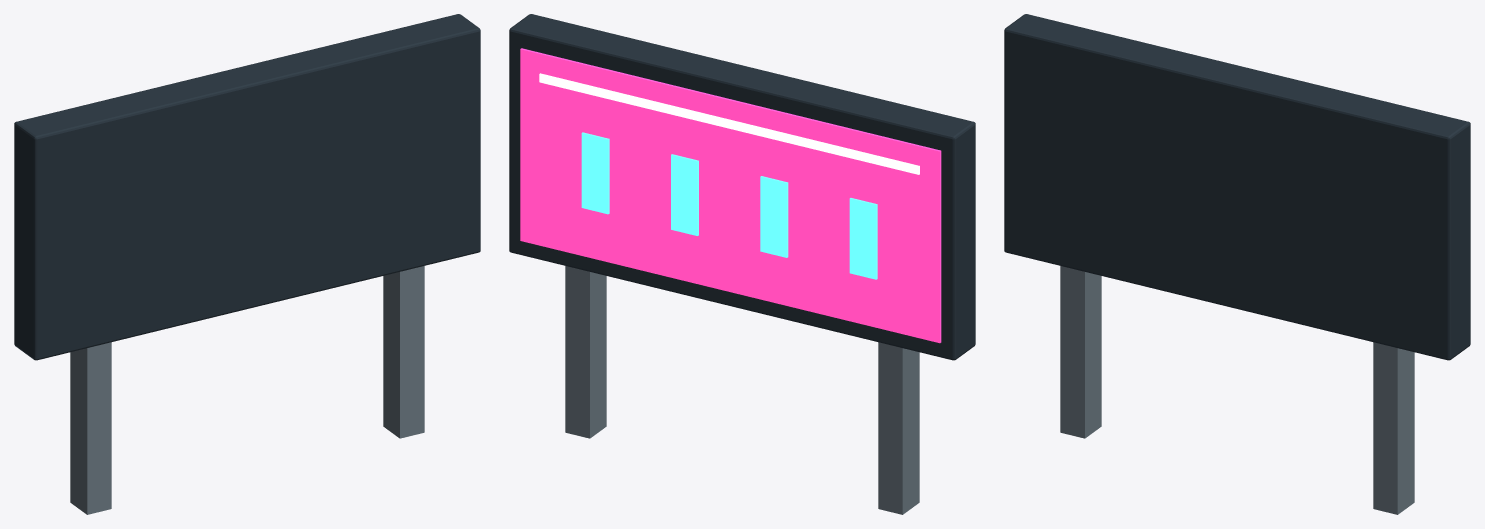
File: vrx_city_advert_a_LOD0.fbx
3 views of the same model, side by side, from view 1: azimuth 30°, elevation 25°; view 2: azimuth 150°, elevation 25°; view 3: azimuth 330°, elevation 25° (orthographic).
Parts seen in each view (by area): view 1: vrx_city_advert_a_LOD0; view 2: vrx_city_advert_a_LOD0; view 3: vrx_city_advert_a_LOD0.
Boxes of the visible parts, box(x1,y1,x2,y2) form: vrx_city_advert_a_LOD0: box(14, 14, 480, 514); vrx_city_advert_a_LOD0: box(509, 14, 975, 514); vrx_city_advert_a_LOD0: box(1004, 14, 1470, 514).
Size of the model in its own units: 10 by 8.4 by 0.95.
